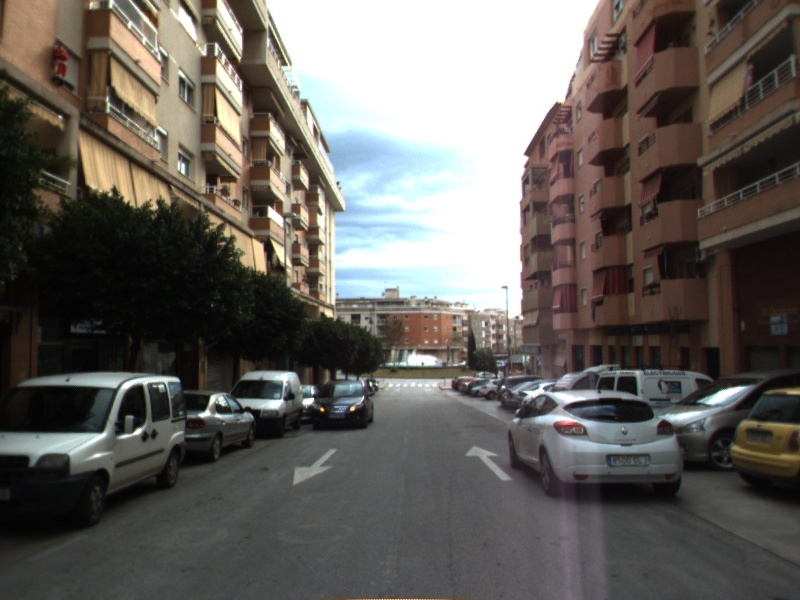STRAIGHT: (463, 443, 515, 482)
